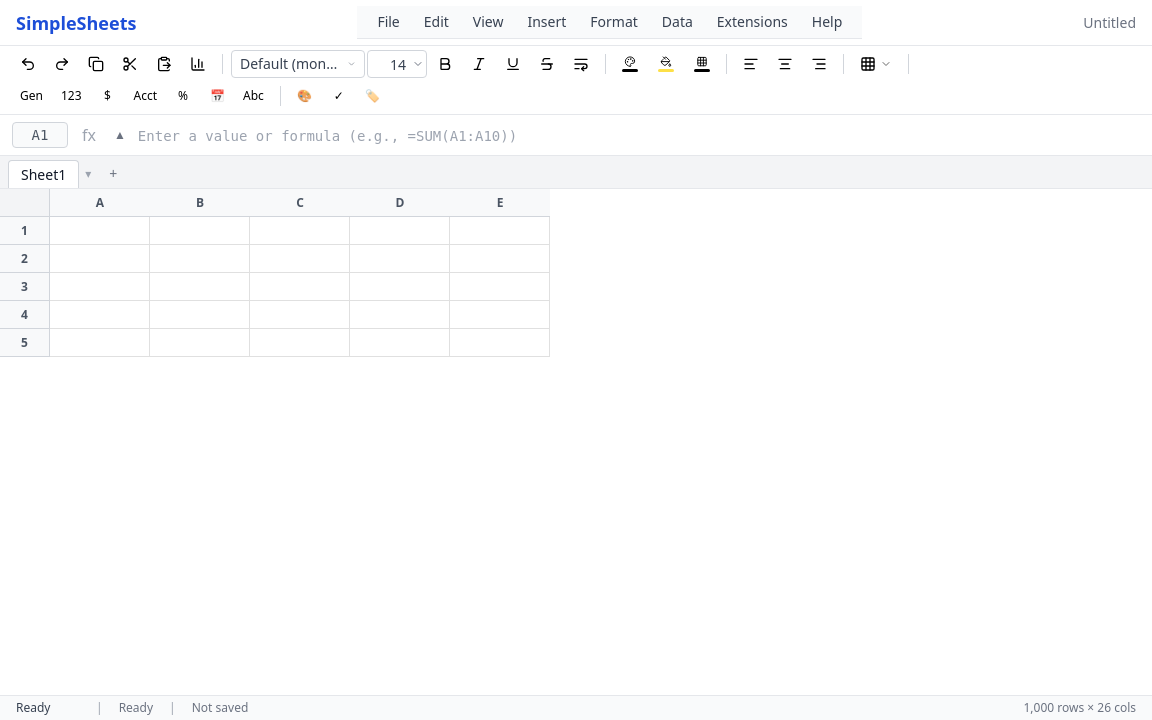
Test: App - External Clipboard Paste › pastes plain text when "Paste Plain Text" is chosen
Press the mouse on the 1st element with class "grid-cell" at (100, 231), box [50, 217, 150, 245]
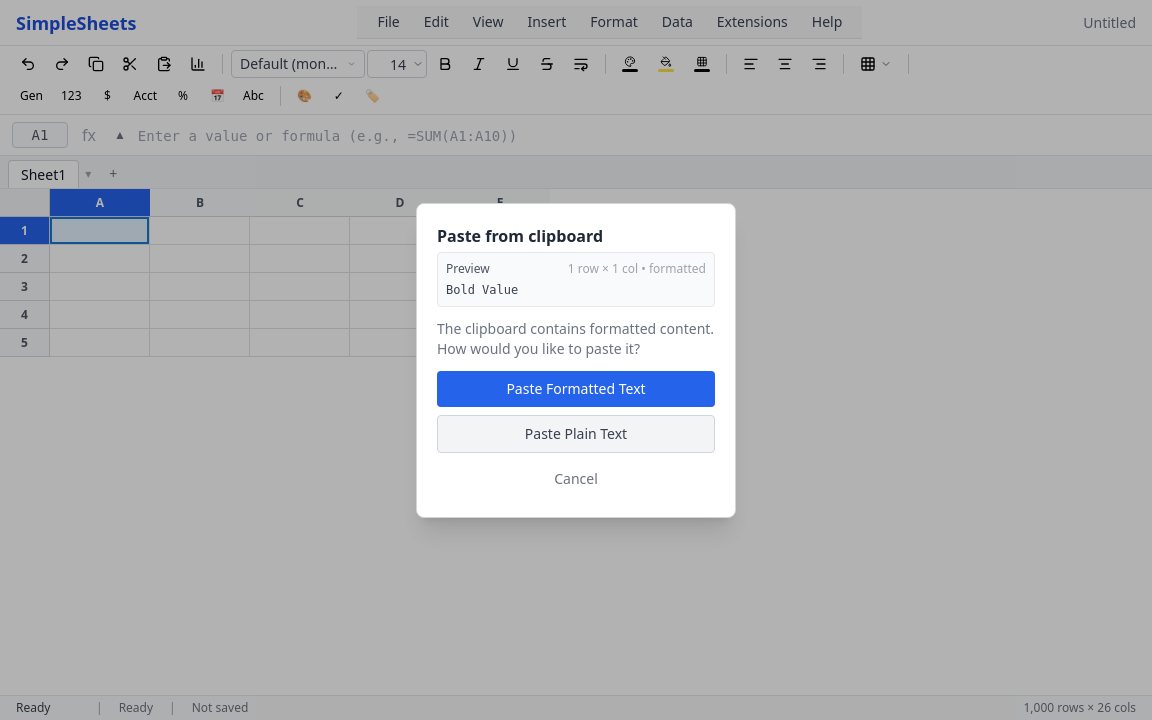
Note: Choose plain paste
Click the button with test id "paste-plain" at (576, 434), box [437, 414, 715, 452]
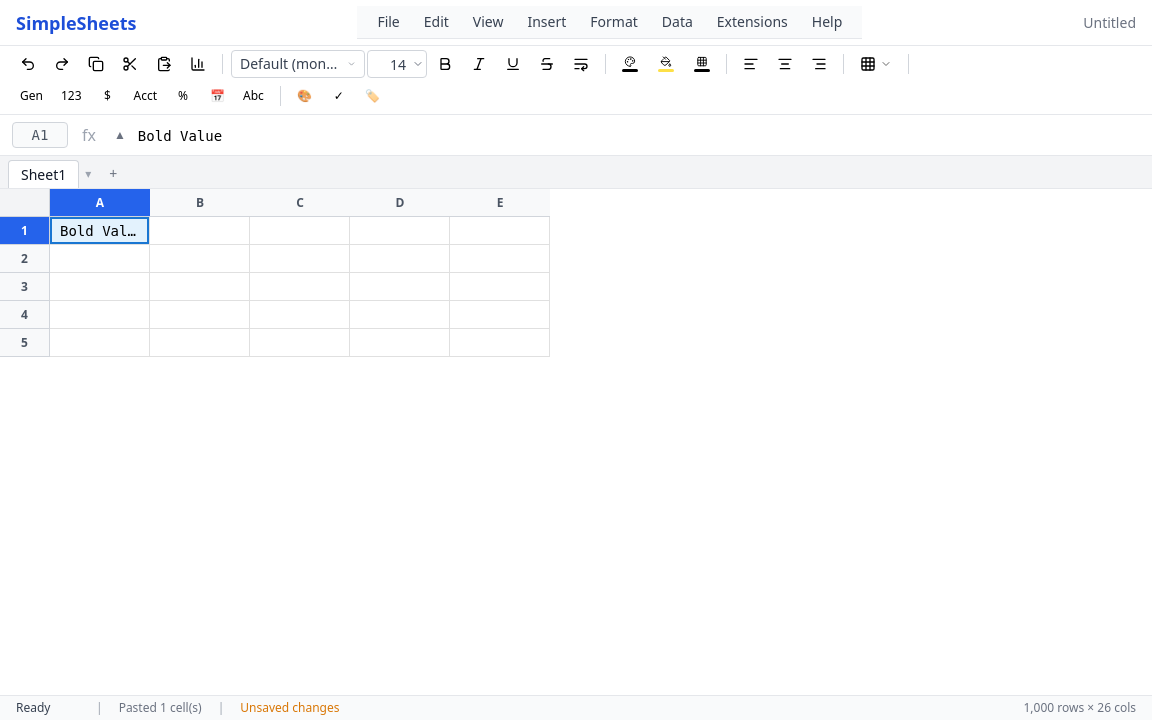
Expected: the heading "Paste from clipboard" is gone
Expected: the text with test id "status-message" shows "Pasted", [119, 699, 202, 716]
